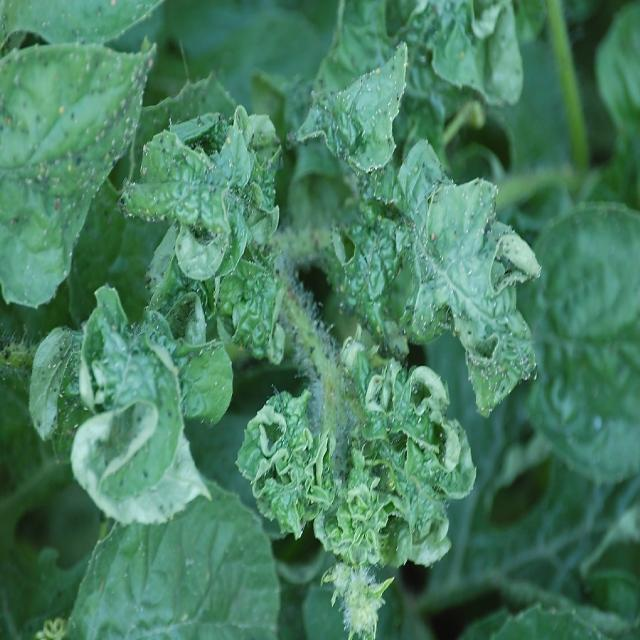Aphids: (391, 136, 545, 419), (318, 337, 475, 571), (18, 45, 154, 303), (75, 294, 215, 526), (124, 91, 283, 289), (241, 380, 334, 540), (329, 198, 411, 360), (407, 0, 523, 112), (287, 64, 398, 166), (217, 253, 290, 362)
